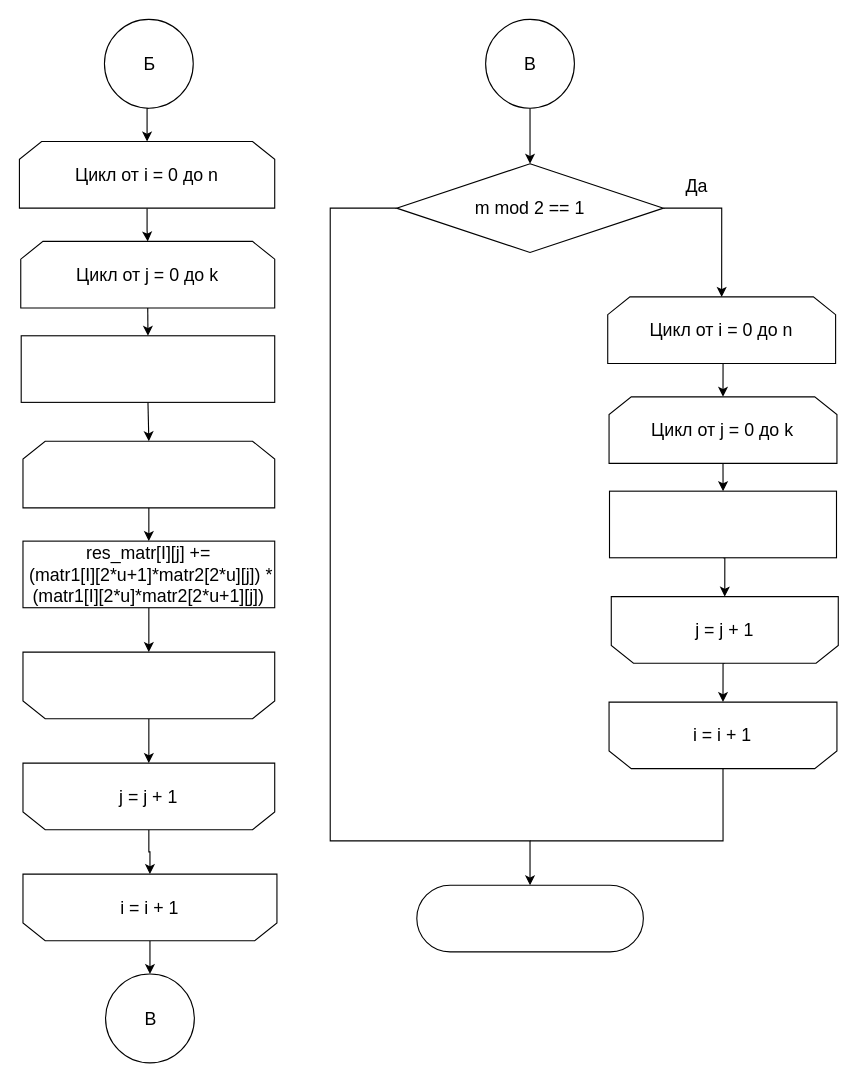
The diagram is 858 pixels wide and 1082 high, and some of its shapes have lost their labels. Each missing label, with the centre of its shape:
"res_matr[I][j] += matr1[I][m - 1] * matr2[m - 1][j]" belongs at point (722, 524).
"res_matr[I][j] = - tmp_r[I] - tmp_c[j]" belongs at point (147, 368).
"u = u + 1" belongs at point (148, 685).
"Конец" belongs at point (529, 918).
"Цикл от u = 0 до m div 2" belongs at point (148, 474).
